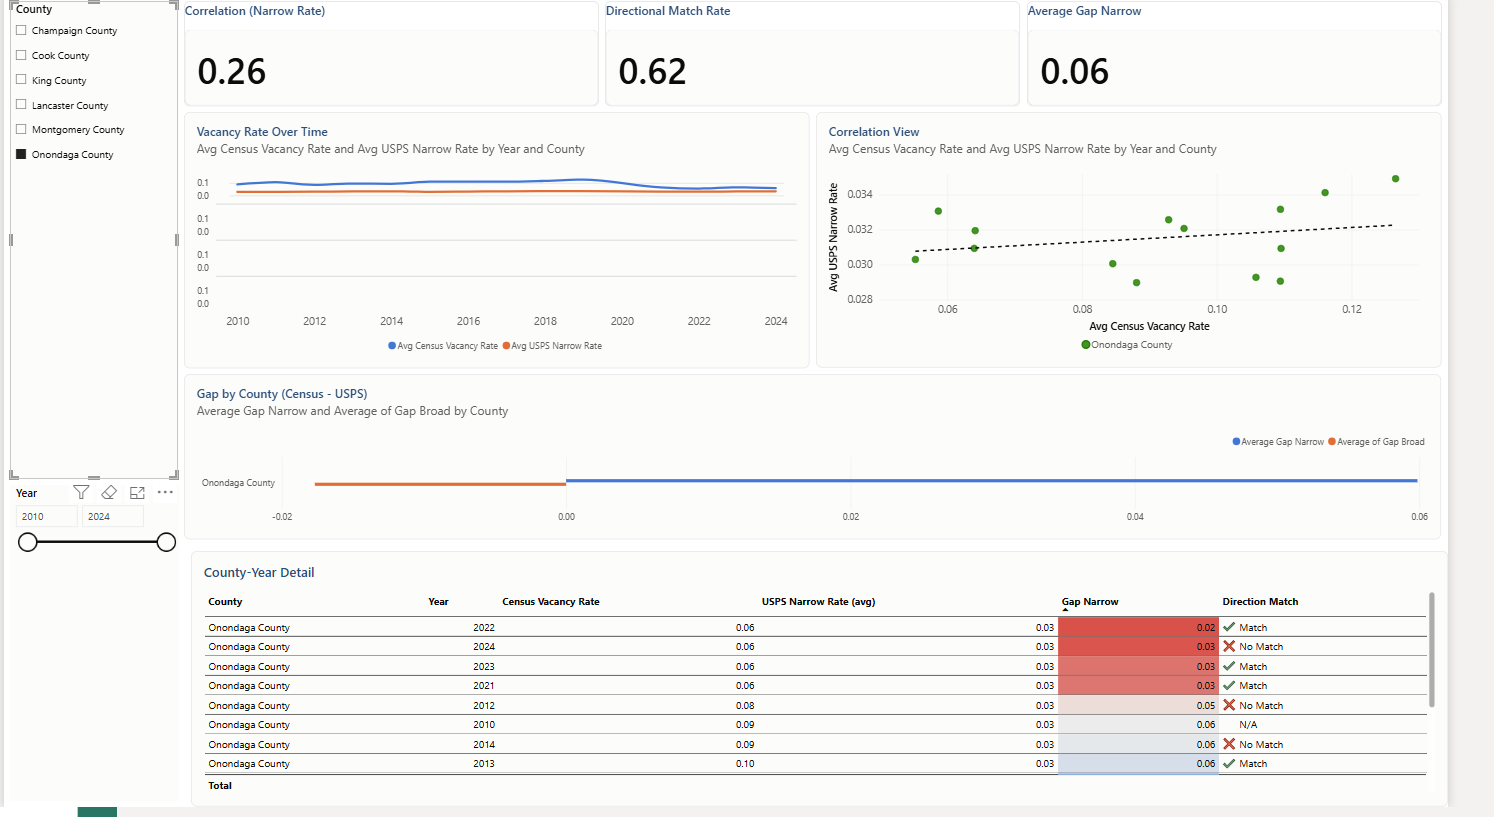

This screenshot's page, from the dashboard's own definition file:
{"tool":"powerbi","page":{"name":"Vacancy Rate","canvas":[1920,1080],"ordinal":0},"visuals":[{"type":"slicer","fields":{"Values":["Comparison.County"]},"box":[8,8,224,636],"z":0},{"type":"slicer","fields":{"Values":["Comparison.Year"]},"box":[8,652,224,420],"z":1},{"type":"cardVisual","title":"Correlation (Narrow Rate)","fields":{"Data":["Comparison.Correlation (Narrow)"]},"box":[240,8,552,140],"z":2},{"type":"cardVisual","title":"Directional Match Rate","fields":{"Data":["Comparison.Directional Match Rate"]},"box":[800,8,552,140],"z":3},{"type":"cardVisual","title":"Average Gap Narrow","fields":{"Data":["Comparison.Average Gap Narrow"]},"box":[1360,8,552,140],"z":4},{"type":"lineChart","title":"Vacancy Rate Over Time","fields":{"Category":["Comparison.Year"],"Rows":["Comparison.County"],"Y":["Comparison.Avg Census Vacancy Rate","Comparison.Avg USPS Narrow Rate"]},"box":[240,156,832,340.6],"z":5},{"type":"scatterChart","title":"Correlation View","fields":{"Category":["Comparison.Year"],"Series":["Comparison.County"],"X":["Comparison.Avg Census Vacancy Rate"],"Y":["Comparison.Avg USPS Narrow Rate"]},"box":[1080,156,832,340],"z":6},{"type":"clusteredBarChart","title":"Gap by County (Census - USPS)","fields":{"Category":["Comparison.County"],"Y":["Comparison.Average Gap Narrow","Avg(Comparison.Gap Broad)"]},"box":[240,504,1672,220],"z":7},{"type":"tableEx","title":"County-Year Detail","fields":{"Values":["Comparison.County","Comparison.Year","Comparison.Census Vacancy Rate","Comparison.USPS Narrow Rate (avg)","Comparison.Gap Narrow","Comparison.Direction Match"]},"box":[248.1,740,1672,340],"z":8}]}

Visuals, with their boxes on the page's 1920x1080 design canvas (x1, y1, x2, y2). These are canvas units, not pixel positions in the 1494x817 screenshot, which may show the page scaled, cropped or inside an application window:
slicer - Comparison.County: (8,8,232,644)
slicer - Comparison.Year: (8,652,232,1072)
"Correlation (Narrow Rate)" cardVisual: (240,8,792,148)
"Directional Match Rate" cardVisual: (800,8,1352,148)
"Average Gap Narrow" cardVisual: (1360,8,1912,148)
"Vacancy Rate Over Time" lineChart: (240,156,1072,497)
"Correlation View" scatterChart: (1080,156,1912,496)
"Gap by County (Census - USPS)" clusteredBarChart: (240,504,1912,724)
"County-Year Detail" tableEx: (248,740,1920,1080)
